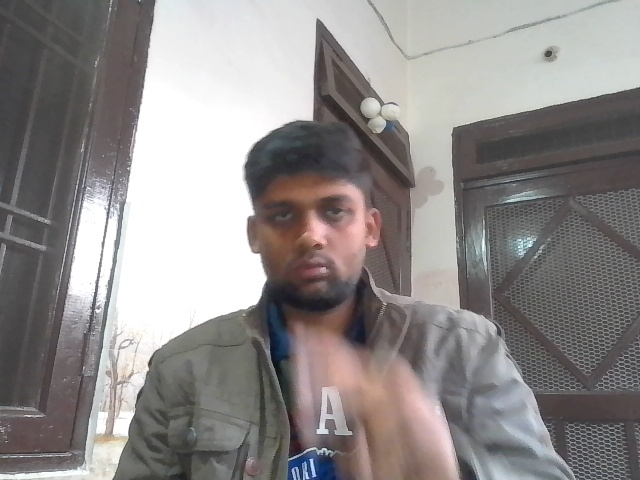Enjoy: (276, 314, 476, 480)
